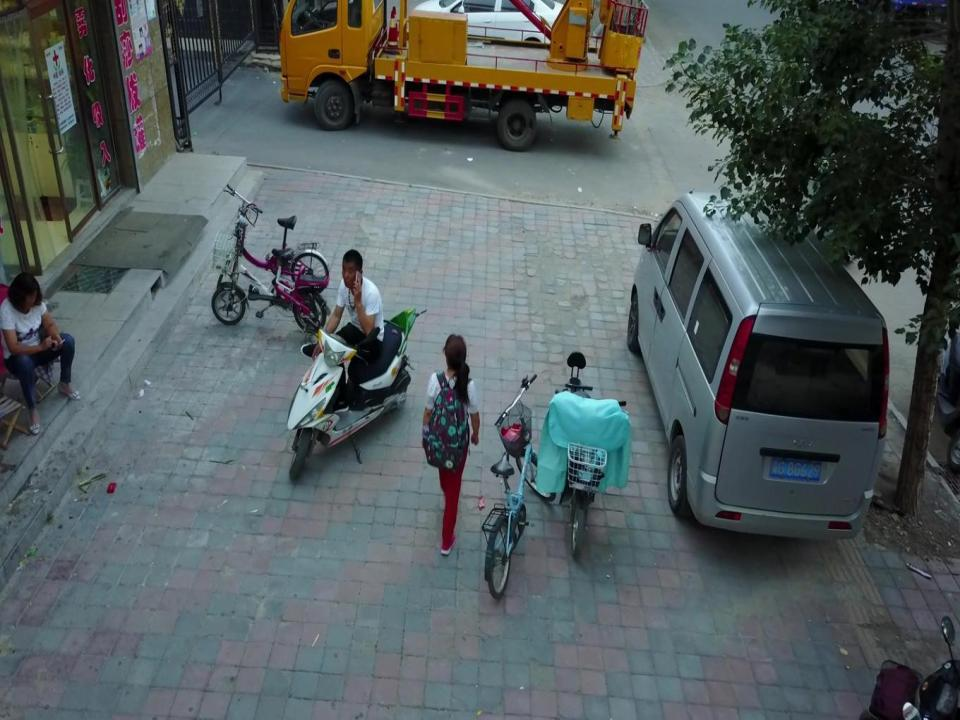car: (410, 0, 578, 60)
truck: (279, 0, 649, 153)
van: (626, 191, 889, 540)
